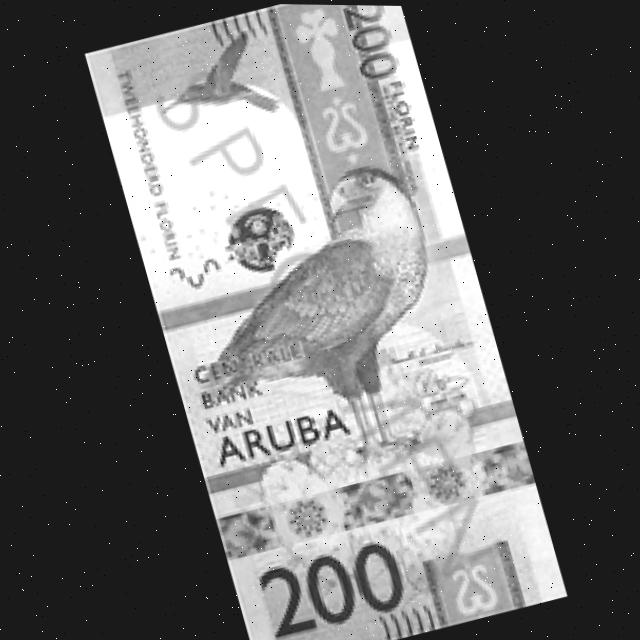banknote: (82, 1, 566, 640)
